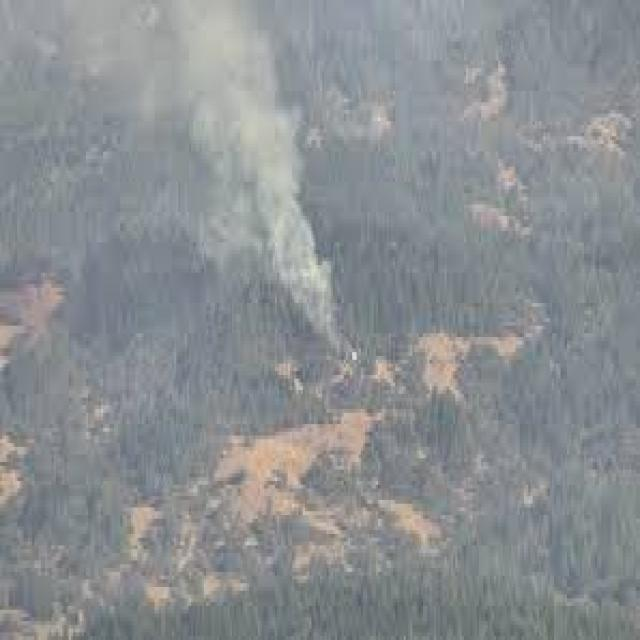Smoke: (191, 0, 363, 364)
